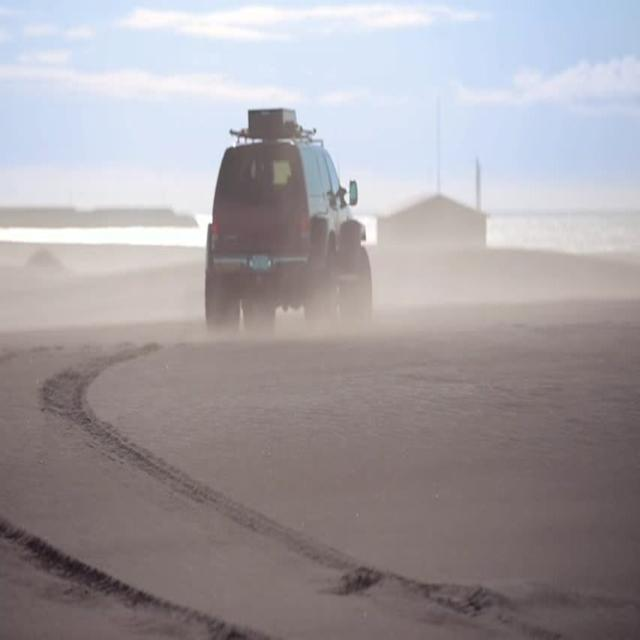car: (204, 114, 374, 333)
